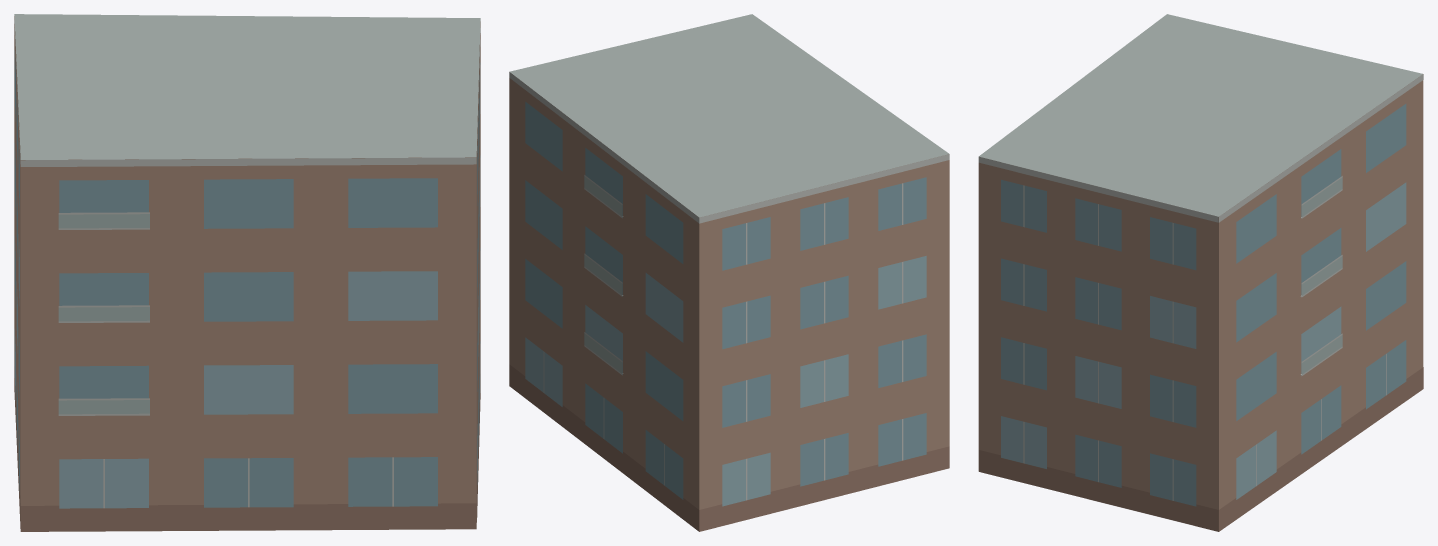
The model's file is survey-upis-33039175.glb.
3 views of the same model, side by side, from view 1: azimuth 30°, elevation 25°; view 2: azimuth 150°, elevation 25°; view 3: azimuth 270°, elevation 25° (orthographic). The views are drawn at different scales.
Parts seen in each view (by area): view 1: survey-upis-33039175.tmp; view 2: survey-upis-33039175.tmp; view 3: survey-upis-33039175.tmp.
Boxes of the visible parts, left/top/right/bottom form: survey-upis-33039175.tmp: left=14, top=14, right=480, bottom=531; survey-upis-33039175.tmp: left=509, top=14, right=949, bottom=531; survey-upis-33039175.tmp: left=978, top=14, right=1423, bottom=531.
Size of the model in its own units: 17.68 by 12.8 by 16.39.
